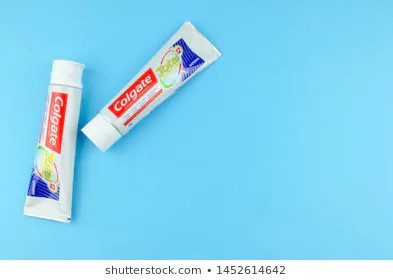colgate-total-150gm: (78, 24, 231, 160), (9, 57, 94, 224)
